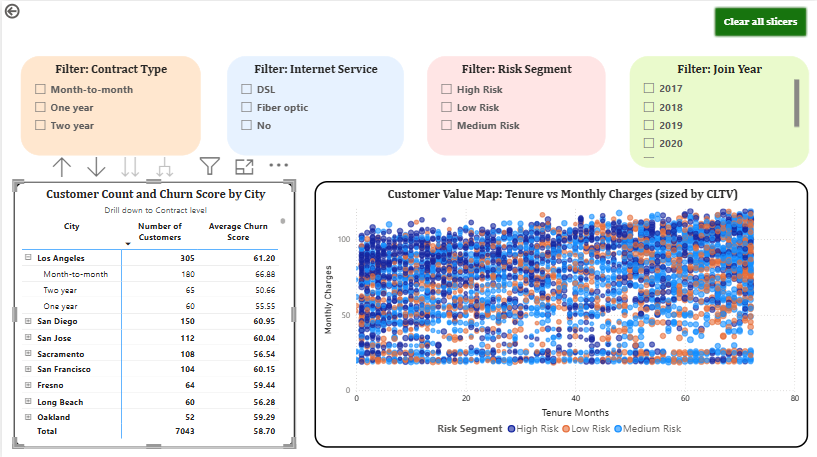

The dashboard page shown, as its layout file describes it:
{"tool":"powerbi","page":{"name":"Interactive Analysis","canvas":[1280,720],"ordinal":2},"visuals":[{"type":"pivotTable","title":"Customer Count and Churn Score by City","fields":{"Rows":["Dim_Location.City","Dim_Contract.Contract"],"Values":["CountNonNull(Fact_CustomerAccount.CustomerAccountKey)","Avg(Fact_CustomerAccount.Churn_Score)"]},"box":[17.4,282.6,442,418.8],"z":0},{"type":"actionButton","box":[0,0,76.8,31.9],"z":1000},{"type":"slicer","title":"Filter: Contract Type","fields":{"Values":["Dim_Contract.Contract"]},"box":[28.8,86.2,282.5,156.2],"z":2000},{"type":"slicer","title":"Filter: Internet Service","fields":{"Values":["Dim_Service.Internet_Service"]},"box":[352.5,86.2,277.5,156.2],"z":3000},{"type":"slicer","title":"Filter: Risk Segment","fields":{"Values":["Fact_CustomerAccount.Risk_Segment"]},"box":[666.2,86.2,280,156.2],"z":4000},{"type":"slicer","title":"Filter: Join Year","fields":{"Values":["Dim_Date.Year"]},"box":[983.8,86.2,281.2,175],"z":5000},{"type":"scatterChart","title":"Customer Value Map: Tenure vs Monthly Charges (sized by CLTV)","fields":{"X":["Avg(Fact_CustomerAccount.Tenure_Months)"],"Y":["Fact_CustomerAccount.Monthly_Charges"],"Size":["Avg(Fact_CustomerAccount.CLTV)"],"Series":["Fact_CustomerAccount.Risk_Segment"],"Category":["Fact_CustomerAccount.CustomerAccountKey"]},"box":[490,282.9,774.3,418.6],"z":6000},{"type":"actionButton","box":[1116.2,7.5,148.8,50],"z":7000}]}

Visuals, with their boxes in screenshot pixels (x1, y1, x2, y2), scaled from the page's 1280x720 canvas onto the 817x457 screenshot:
"Customer Count and Churn Score by City" pivotTable: Rect(11, 179, 293, 445)
actionButton: Rect(0, 0, 49, 20)
"Filter: Contract Type" slicer: Rect(18, 55, 199, 154)
"Filter: Internet Service" slicer: Rect(225, 55, 402, 154)
"Filter: Risk Segment" slicer: Rect(425, 55, 604, 154)
"Filter: Join Year" slicer: Rect(628, 55, 807, 166)
"Customer Value Map: Tenure vs Monthly Charges (sized by CLTV)" scatterChart: Rect(313, 180, 807, 445)
actionButton: Rect(712, 5, 807, 36)
